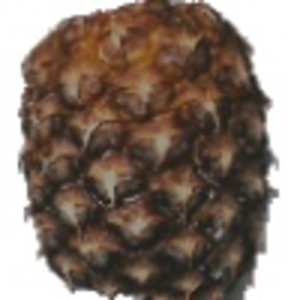abacaxi: (12, 6, 283, 294)
